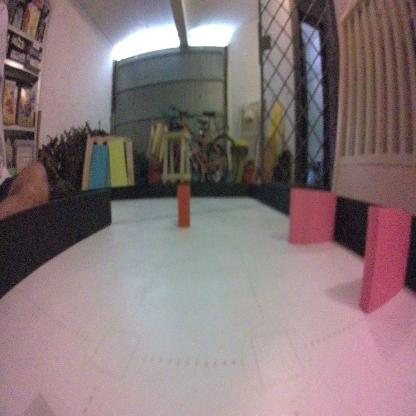magenta: (359, 203, 410, 317), (289, 185, 336, 246)
red: (176, 180, 191, 228)
